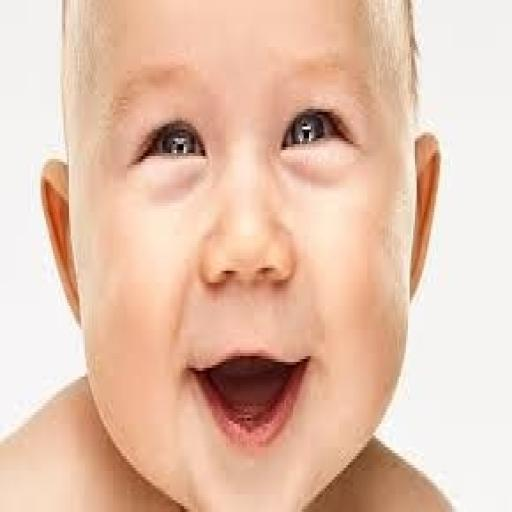laughing: (12, 0, 461, 506)
